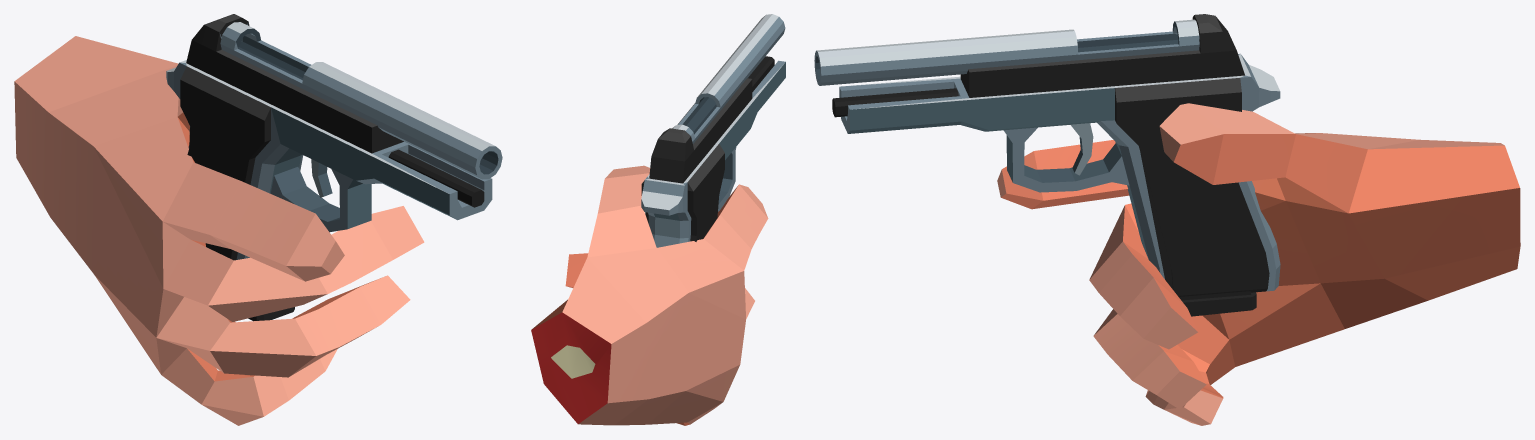
The model's file is handgun.fbx.
3 views of the same model, side by side, from view 1: azimuth 30°, elevation 25°; view 2: azimuth 150°, elevation 25°; view 3: azimuth 270°, elevation 25° (orthographic). The views are drawn at different scales.
Visible parts, largest first — view 1: Cube, handgun_4_main, handgun_4_trigger; view 2: Cube, handgun_4_main; view 3: Cube, handgun_4_main, handgun_4_mag, handgun_4_trigger.
Part boxes in pixels (x1,y1,x2,y2): Cube: (14,36,424,425); handgun_4_main: (166,14,502,260); handgun_4_trigger: (311,159,332,197); Cube: (531,165,768,425); handgun_4_main: (641,14,785,247); Cube: (997,103,1520,425); handgun_4_main: (814,14,1280,296); handgun_4_mag: (1140,152,1256,316); handgun_4_trigger: (1070,123,1093,175).
Bounding box in the file's own units: 15.1 × 23.51 × 38.01.
